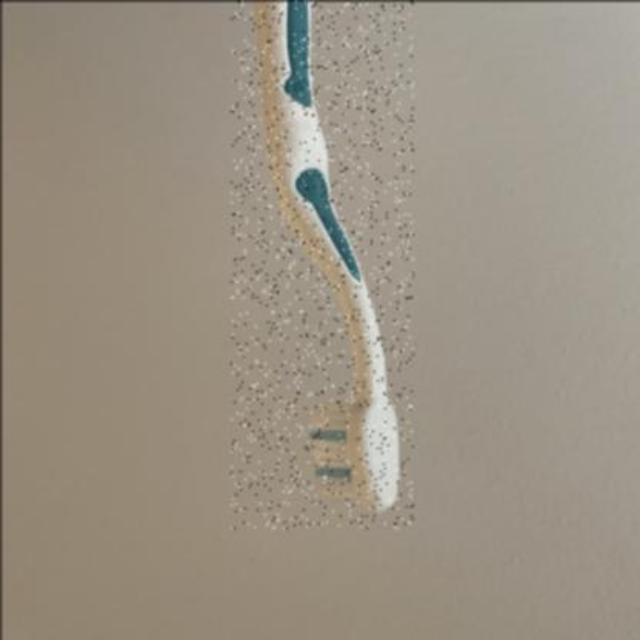toothbrush: (230, 0, 412, 528)
